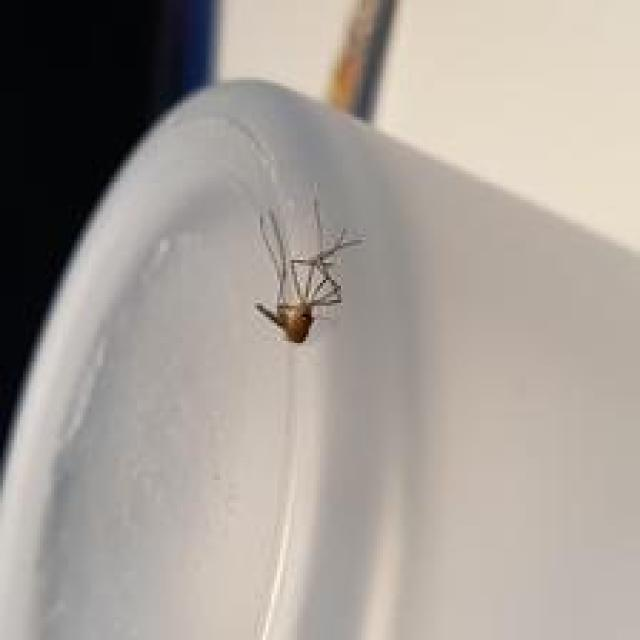Culex: (253, 191, 364, 346)
